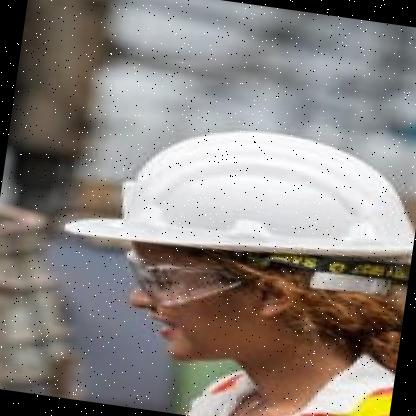capacete: (52, 101, 416, 297)
oculos: (117, 246, 252, 316)
